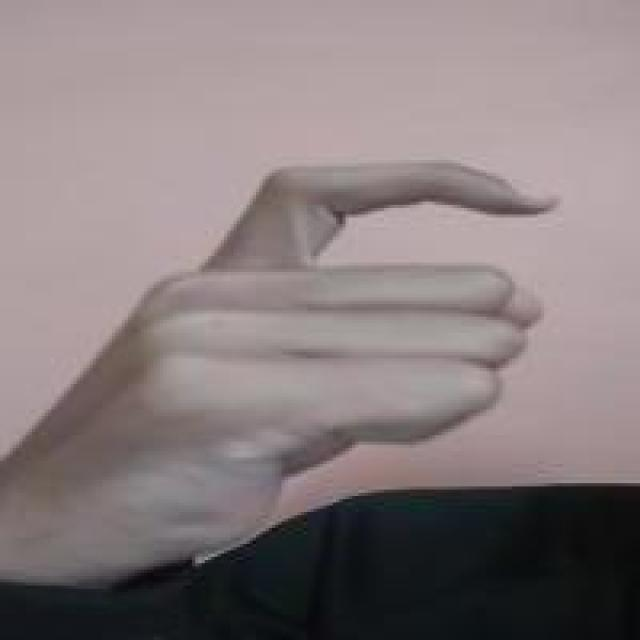X: (74, 154, 556, 547)
